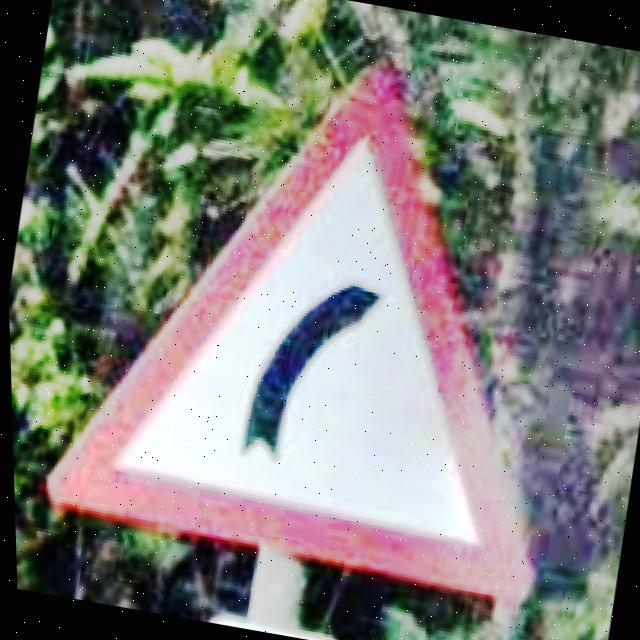rightbend: (44, 67, 528, 606)
